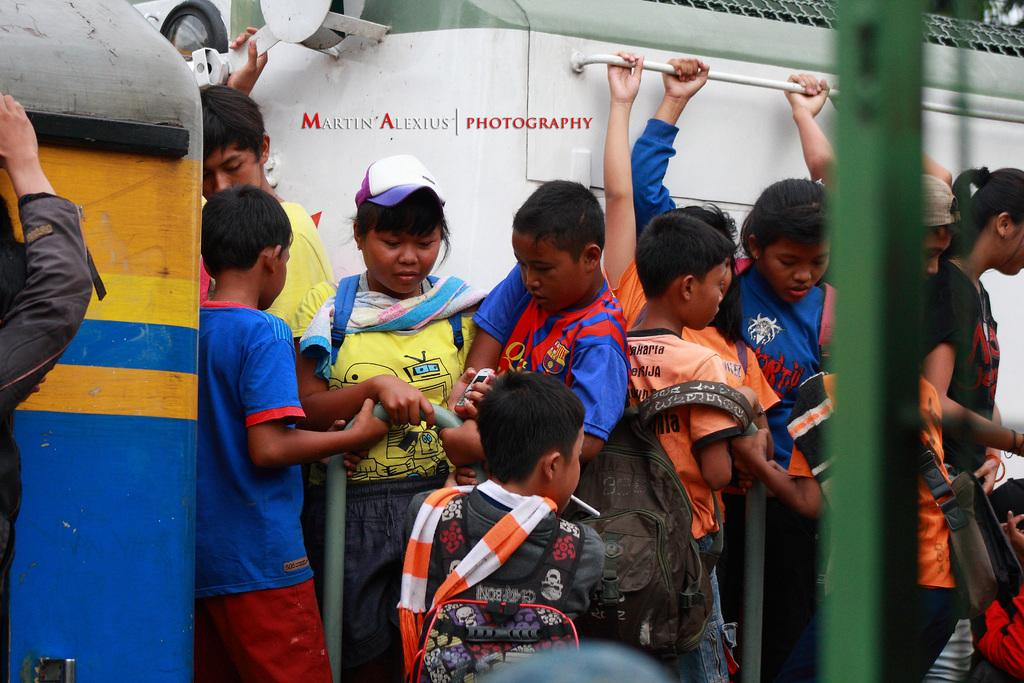Sem Máscara: (357, 212, 442, 294), (510, 227, 588, 312), (197, 134, 268, 191), (756, 240, 828, 296), (687, 254, 721, 325), (555, 428, 581, 516), (915, 228, 956, 278), (990, 226, 1022, 276)
